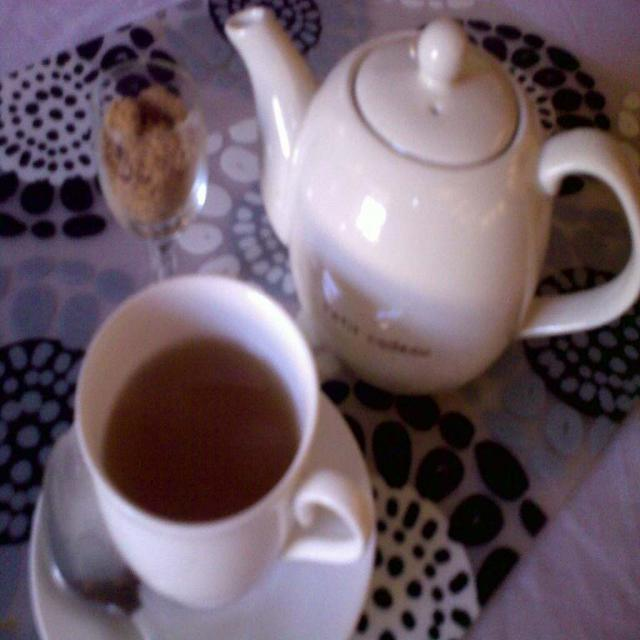Tea: (101, 337, 296, 522)
